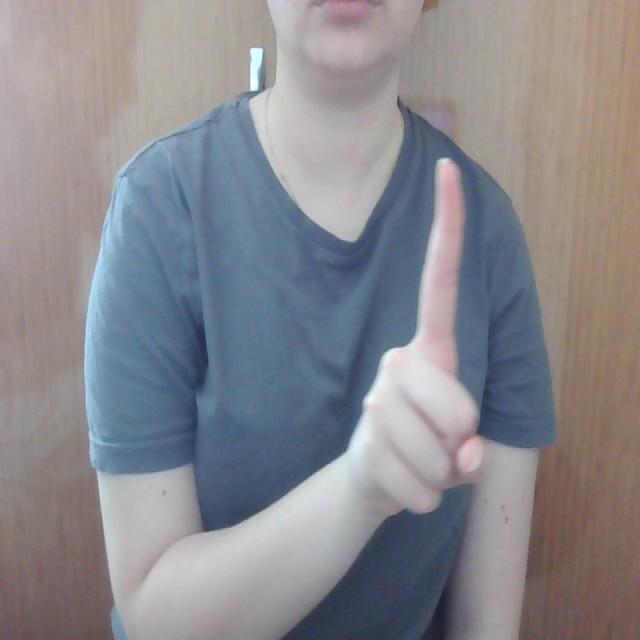Hayir: (341, 146, 497, 548)
